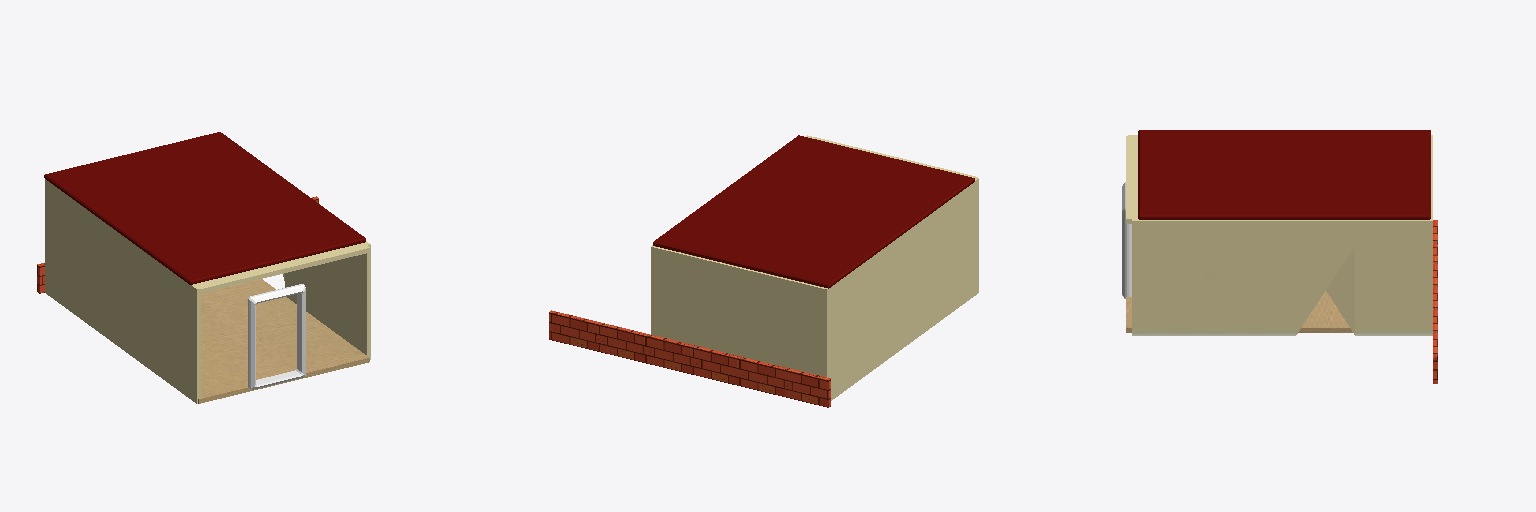
3 renders of one model, left to right at view 1: azimuth 30°, elevation 25°; view 2: azimuth 150°, elevation 25°; view 3: azimuth 270°, elevation 25°, orthographic.
Parts seen in each view (by area): view 1: pasted__pasted__pasted__pCube3 pasted__pasted__group38 pasted__g, pasted__pasted__pasted__pasted__pCube2 pasted__pasted__pasted__g, pasted__pCube3 group38, pasted__pasted__pasted__pasted__pCube1 pasted__pasted__pasted__g, pasted__pasted__pCube3 pasted__group38 group65; view 2: pasted__pasted__pasted__pCube3 pasted__pasted__group38 pasted__g, pasted__pasted__pasted__pasted__pCube2 pasted__pasted__pasted__g, pasted__pasted__pasted__pCube2 pasted__pasted__group14 pasted__g, polySurface11; view 3: pasted__pasted__pasted__pasted__pCube2 pasted__pasted__pasted__g, pasted__pasted__pasted__pCube3 pasted__pasted__group38 pasted__g, pasted__pCube3 group38, pasted__pasted__pCube3 pasted__group38 group65, pasted__pasted__pasted__pasted__pCube1 pasted__pasted__pasted__g, polySurface11.
Boxes of the visible parts, x1,y1,x2,y2 form: pasted__pasted__pasted__pCube3 pasted__pasted__group38 pasted__g: [44, 132, 365, 284]; pasted__pasted__pasted__pasted__pCube2 pasted__pasted__pasted__g: [45, 179, 370, 403]; pasted__pCube3 group38: [198, 279, 369, 403]; pasted__pasted__pasted__pasted__pCube1 pasted__pasted__pasted__g: [248, 284, 305, 389]; pasted__pasted__pCube3 pasted__group38 group65: [193, 243, 369, 293]; pasted__pasted__pasted__pCube3 pasted__pasted__group38 pasted__g: [653, 135, 974, 288]; pasted__pasted__pasted__pasted__pCube2 pasted__pasted__pasted__g: [824, 178, 978, 400]; pasted__pasted__pasted__pCube2 pasted__pasted__group14 pasted__g: [651, 245, 825, 376]; polySurface11: [549, 310, 830, 407]; pasted__pasted__pasted__pasted__pCube2 pasted__pasted__pasted__g: [1128, 135, 1430, 335]; pasted__pasted__pasted__pCube3 pasted__pasted__group38 pasted__g: [1138, 130, 1430, 219]; pasted__pCube3 group38: [1126, 291, 1352, 332]; pasted__pasted__pCube3 pasted__group38 group65: [1126, 136, 1137, 223]; pasted__pasted__pasted__pasted__pCube1 pasted__pasted__pasted__g: [1122, 182, 1131, 298]; polySurface11: [1433, 220, 1437, 383].
Size of the model in its own units: 638 by 261 by 626.
13 materials, 5 textured.